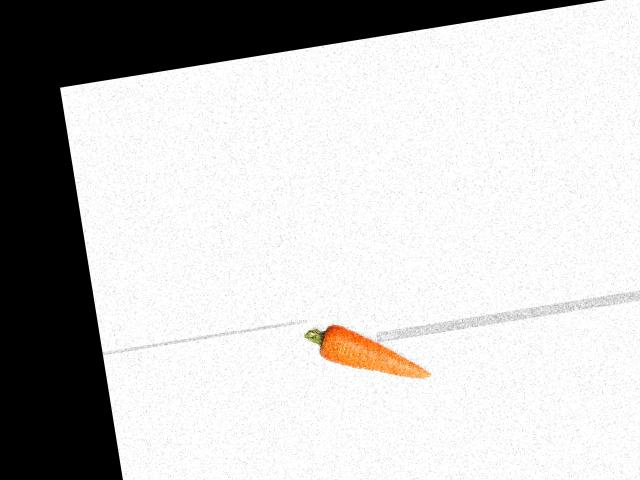carrot: (303, 308, 432, 398)
